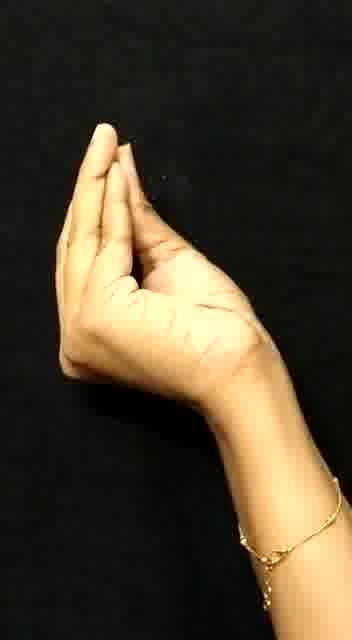mukul: (35, 112, 288, 412)
